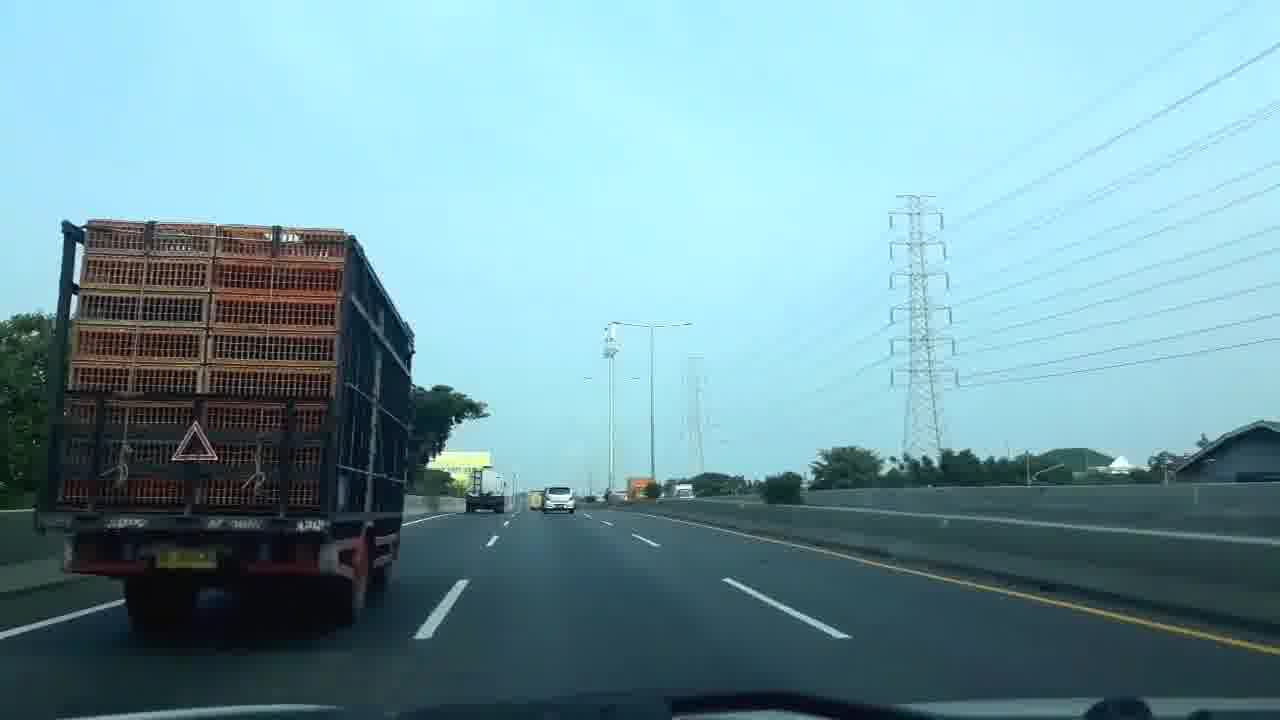plate_positive: (154, 547, 218, 569)
